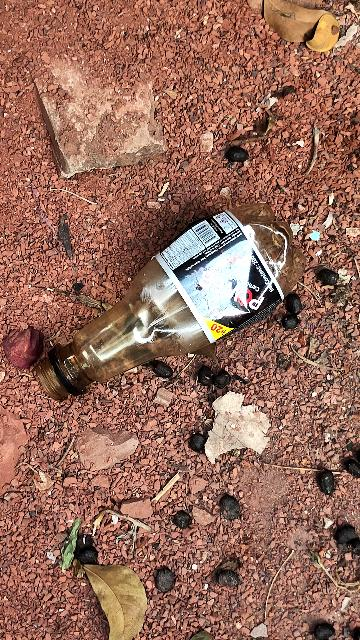bottle: (15, 188, 311, 440)
